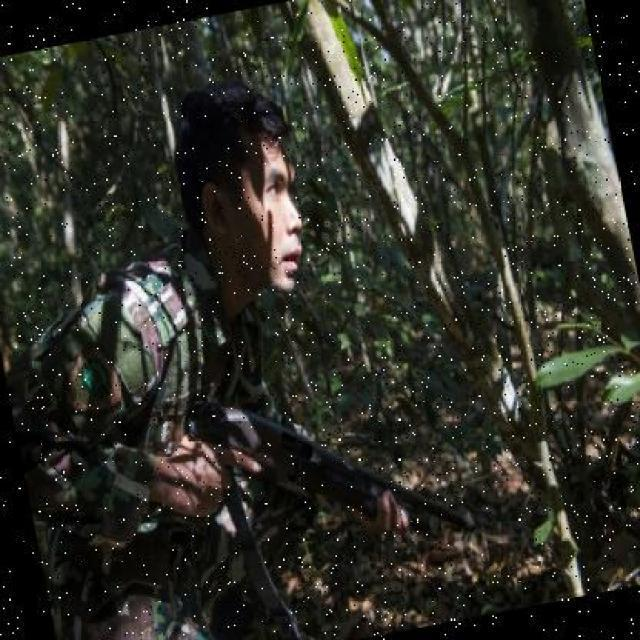ranger: (31, 94, 412, 507)
weapon: (140, 408, 492, 591)
